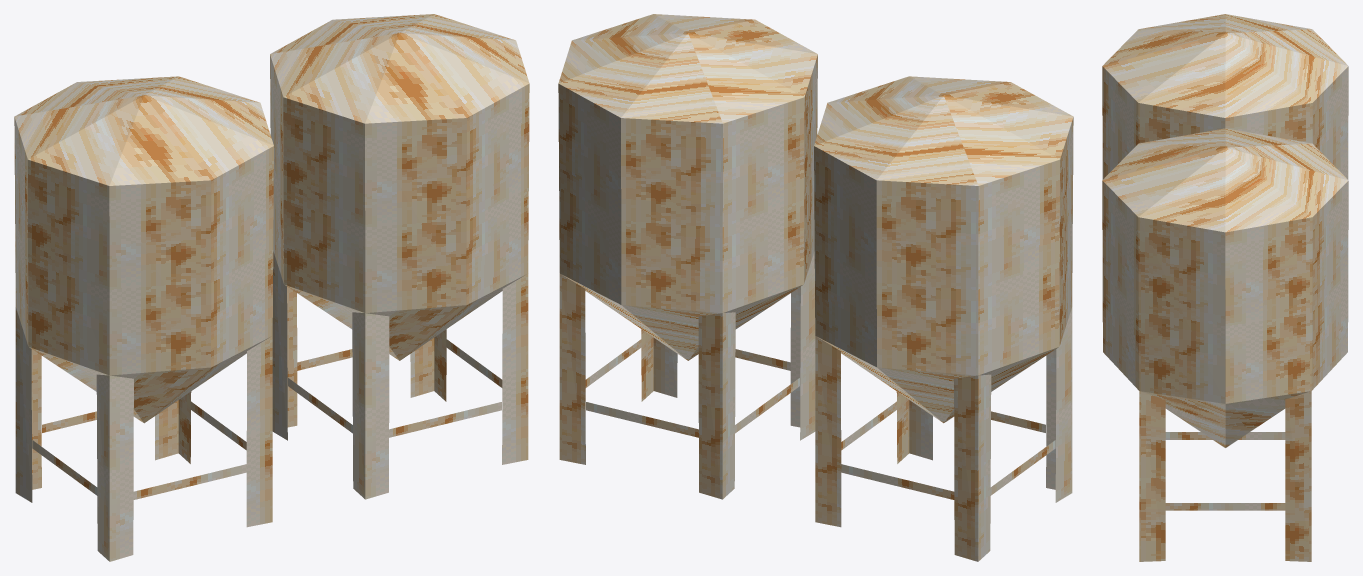
Rendered from lodckfacttanks_sfs.obj.
The picture shows the model from 3 angles, left to right: view 1: azimuth 30°, elevation 25°; view 2: azimuth 150°, elevation 25°; view 3: azimuth 270°, elevation 25°; orthographic projection. The views are drawn at different scales.
Parts seen in each view (by area): view 1: LODckfacttanks_SFS; view 2: LODckfacttanks_SFS; view 3: LODckfacttanks_SFS.
Boxes of the visible parts, x1,y1,x2,y2 form: LODckfacttanks_SFS: (14,14,529,561); LODckfacttanks_SFS: (558,14,1073,561); LODckfacttanks_SFS: (1102,14,1348,561).
Size of the model in its own units: 16.16 by 13.04 by 7.7.
1 material, 1 textured.
